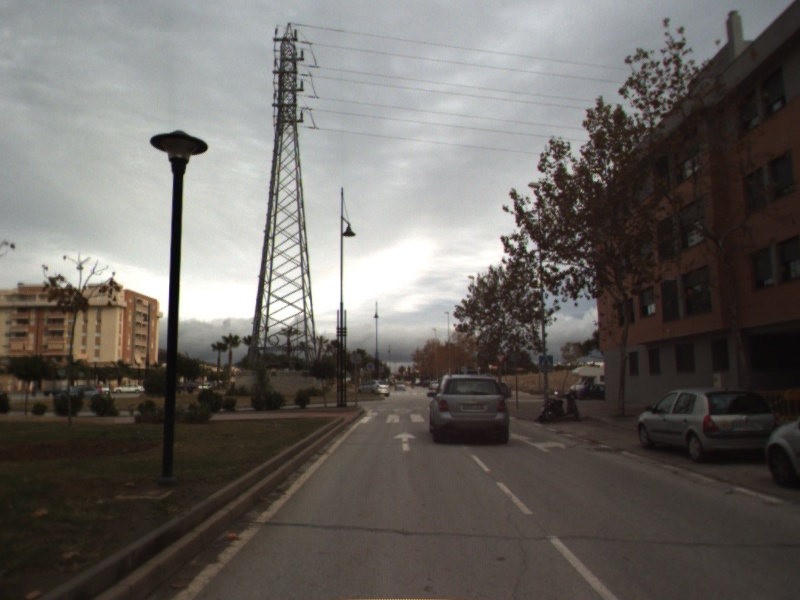STRAIGHT: (392, 429, 419, 453)
STRAIGHT_RIGHT: (508, 430, 567, 454)
